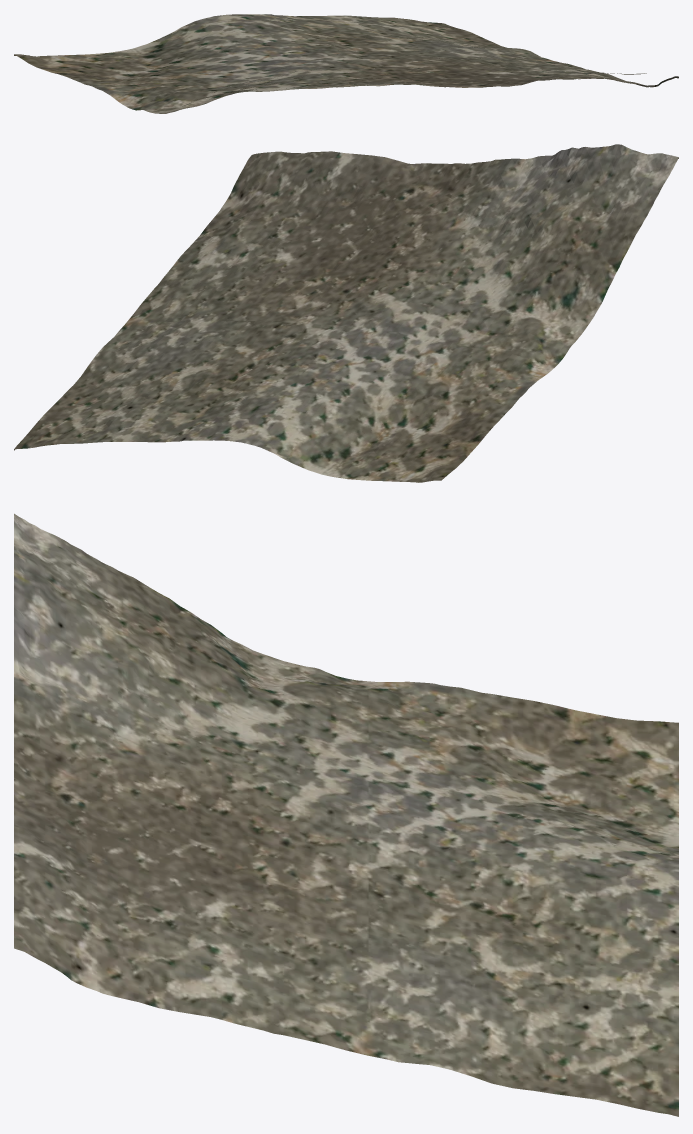
3 views of the same model, one above another, from view 1: azimuth 30°, elevation 25°; view 2: azimuth 150°, elevation 25°; view 3: azimuth 270°, elevation 25° (orthographic). The views are drawn at different scales.
Size of the model in its own units: 250 by 125 by 241.
1 material, 1 textured.
